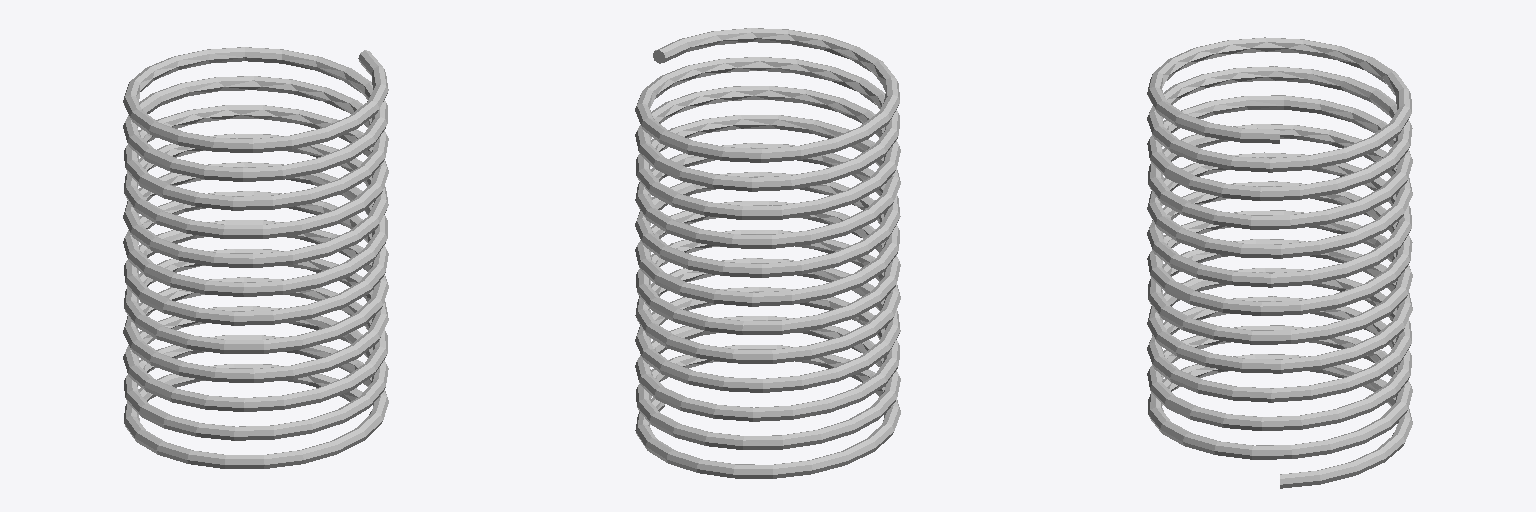
File: Пружина клапана.obj
3 renders of one model, left to right at view 1: azimuth 30°, elevation 25°; view 2: azimuth 150°, elevation 25°; view 3: azimuth 270°, elevation 25°, orthographic.
Visible parts, largest first — view 1: Пружина_клапана; view 2: Пружина_клапана; view 3: Пружина_клапана.
Part boxes in pixels (bbox=[...]): Пружина_клапана: bbox=[123, 47, 388, 468]; Пружина_клапана: bbox=[635, 28, 900, 478]; Пружина_клапана: bbox=[1147, 37, 1412, 488].
Bounding box in the file's own units: 17.5 × 26 × 17.5.